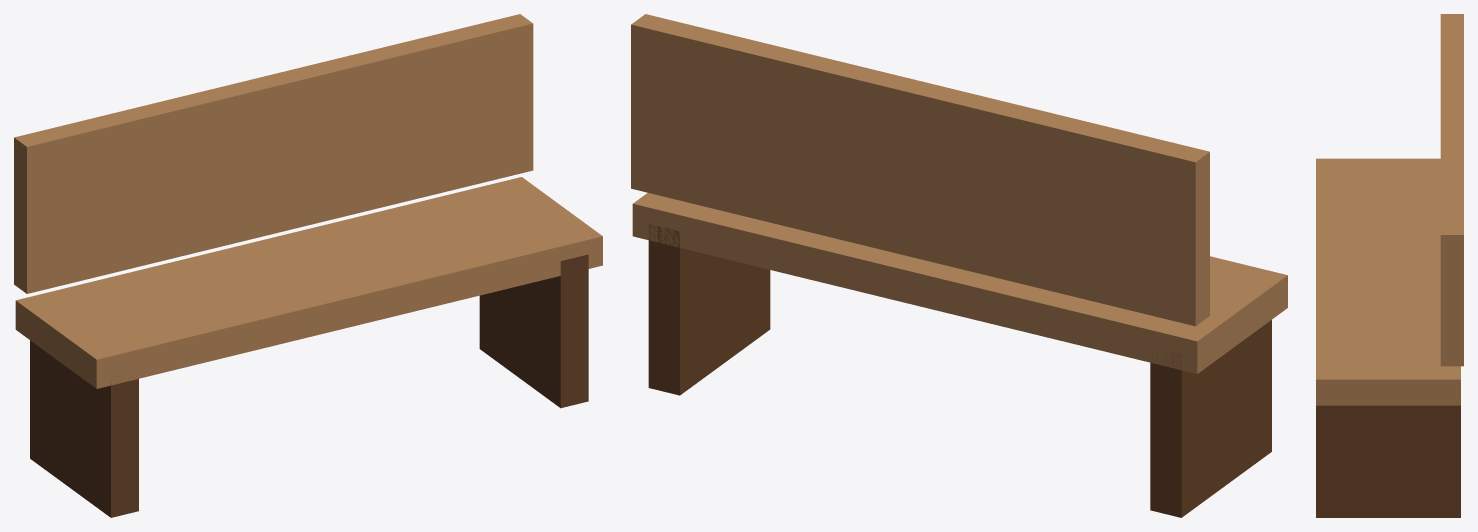
Rendered from bench.glb.
3 views of the same model, side by side, from view 1: azimuth 30°, elevation 25°; view 2: azimuth 150°, elevation 25°; view 3: azimuth 270°, elevation 25° (orthographic). The views are drawn at different scales.
Visible parts, largest first — view 1: bench; view 2: bench; view 3: bench.
Boxes of the visible parts, <box> form: bench: <box>14,14,602,517</box>; bench: <box>631,14,1287,517</box>; bench: <box>1316,14,1463,517</box>.
Bounding box in the file's own units: 1.8 × 1.1 × 0.5098.
